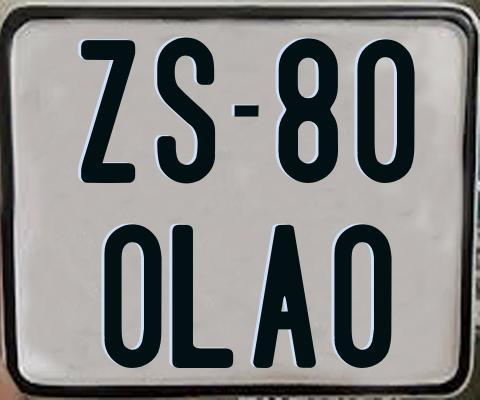0: (334, 221, 394, 370), (103, 222, 163, 368), (355, 37, 413, 185)
8: (275, 37, 341, 182)
A: (252, 225, 319, 372)
L: (172, 222, 236, 365)
S: (157, 37, 216, 190)
Z: (80, 39, 137, 184)
